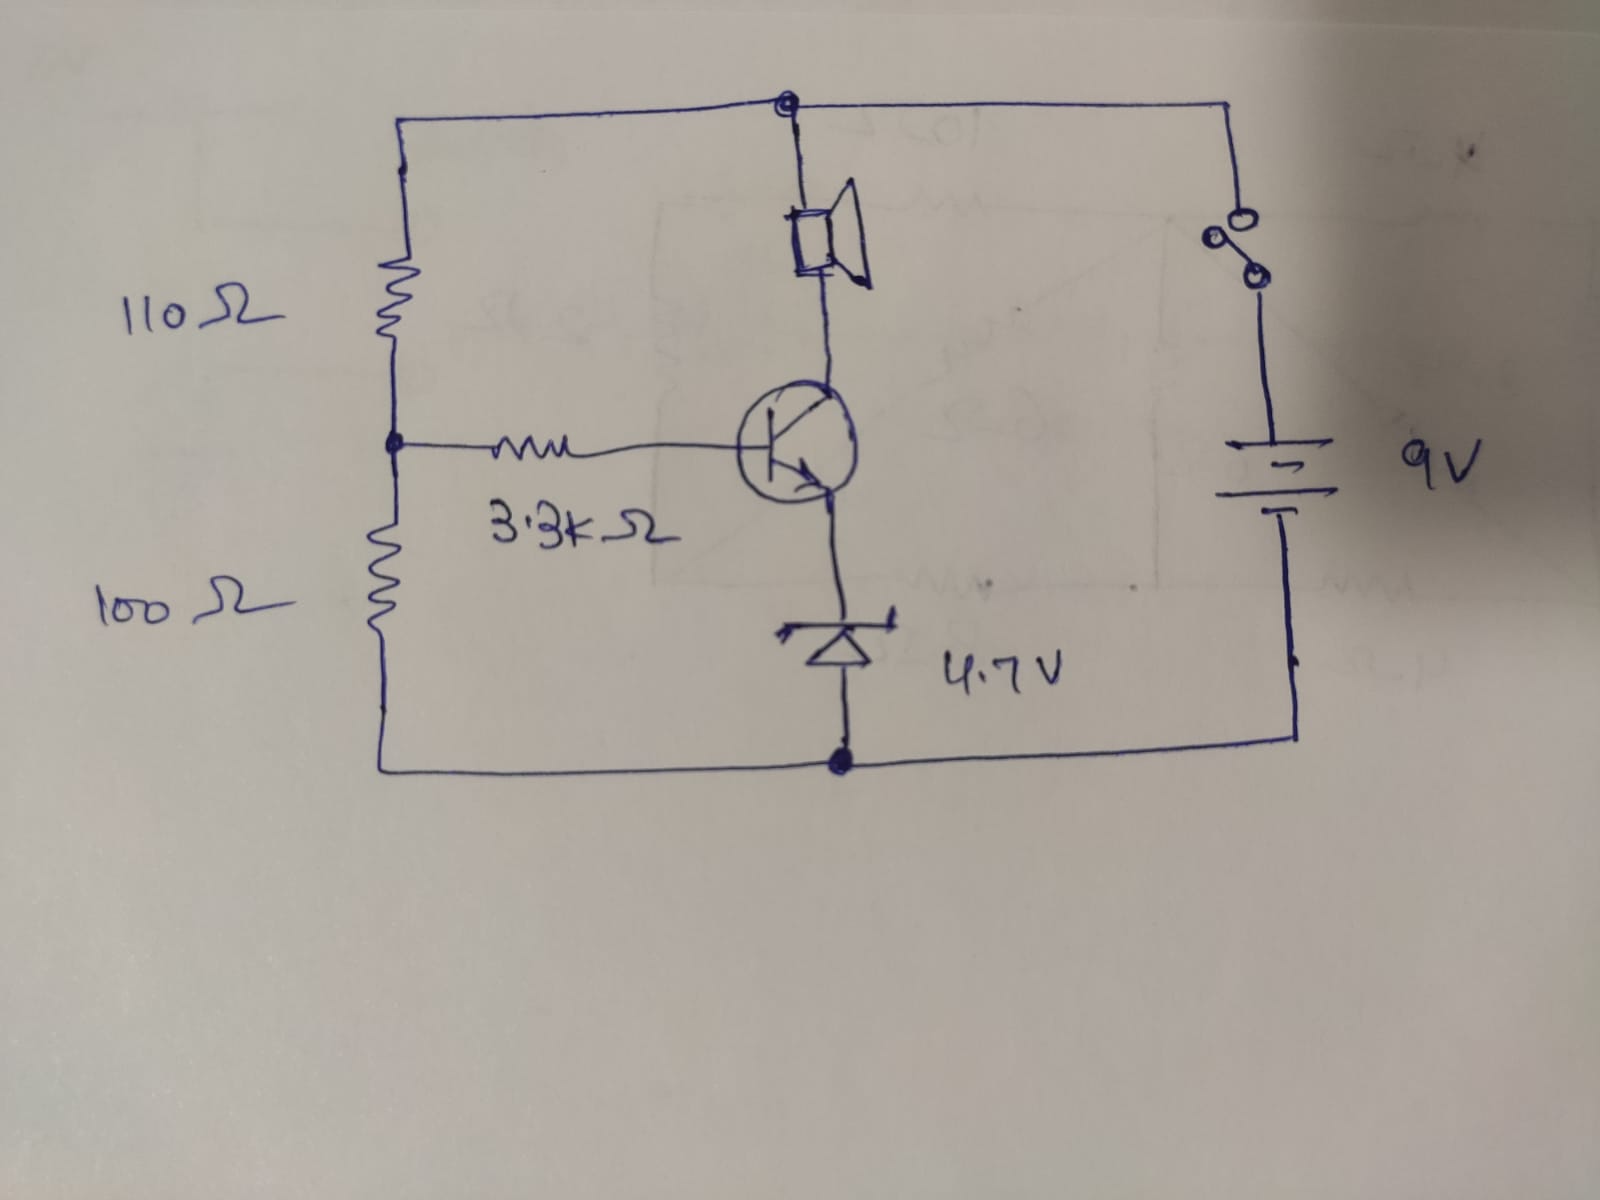diode: (774, 609, 900, 671)
junction: (378, 420, 421, 461), (821, 737, 859, 776), (766, 87, 806, 124), (1283, 724, 1309, 753), (1209, 95, 1238, 120), (369, 756, 393, 782), (387, 112, 409, 134)
resistor: (362, 516, 406, 642), (369, 253, 421, 342), (490, 429, 581, 463)
speaker: (779, 175, 877, 291)
switch: (1198, 205, 1276, 294)
text: (93, 572, 299, 629), (486, 495, 660, 551), (116, 279, 294, 332), (939, 647, 1062, 695), (1400, 437, 1487, 492)
transistor: (729, 376, 859, 505)
voltage.dc: (1217, 429, 1335, 523)
